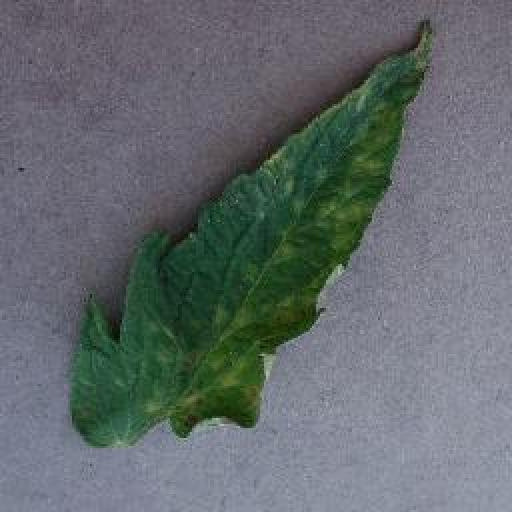disease_tomato: (68, 19, 432, 445)
